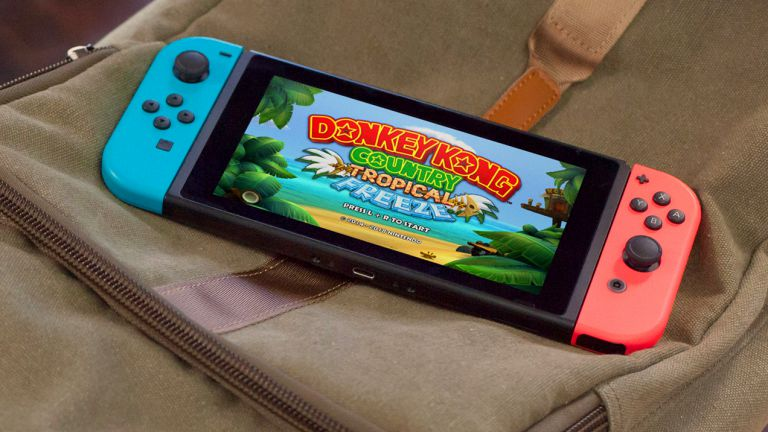NintendoSwitch: (94, 32, 706, 361)
